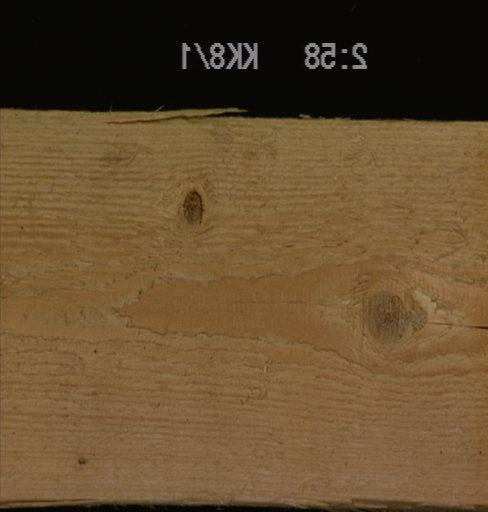dry_knot: (181, 189, 203, 226)
sound_knot: (365, 289, 409, 343)
split: (421, 320, 486, 331)
